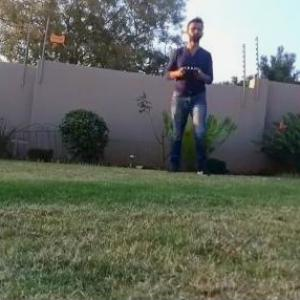follow: (162, 10, 220, 183)
